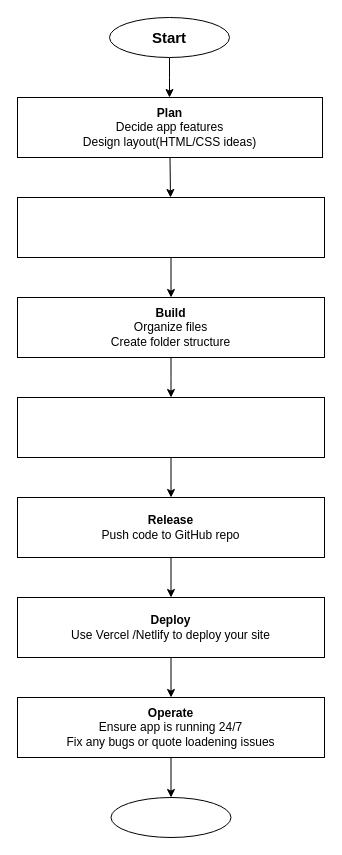
The diagram is 342 pixels wide and 855 high, and some of its shapes have lost their labels. Here are the shapes that lost their labels. From the top down, the box of each, then its label:
(16, 196, 324, 258): Develop Write HTML structure Style with CSS Add interactivity with JS
(16, 396, 324, 458): Test Check responsiveness and mobile view Valldate JS
(110, 796, 231, 838): End
